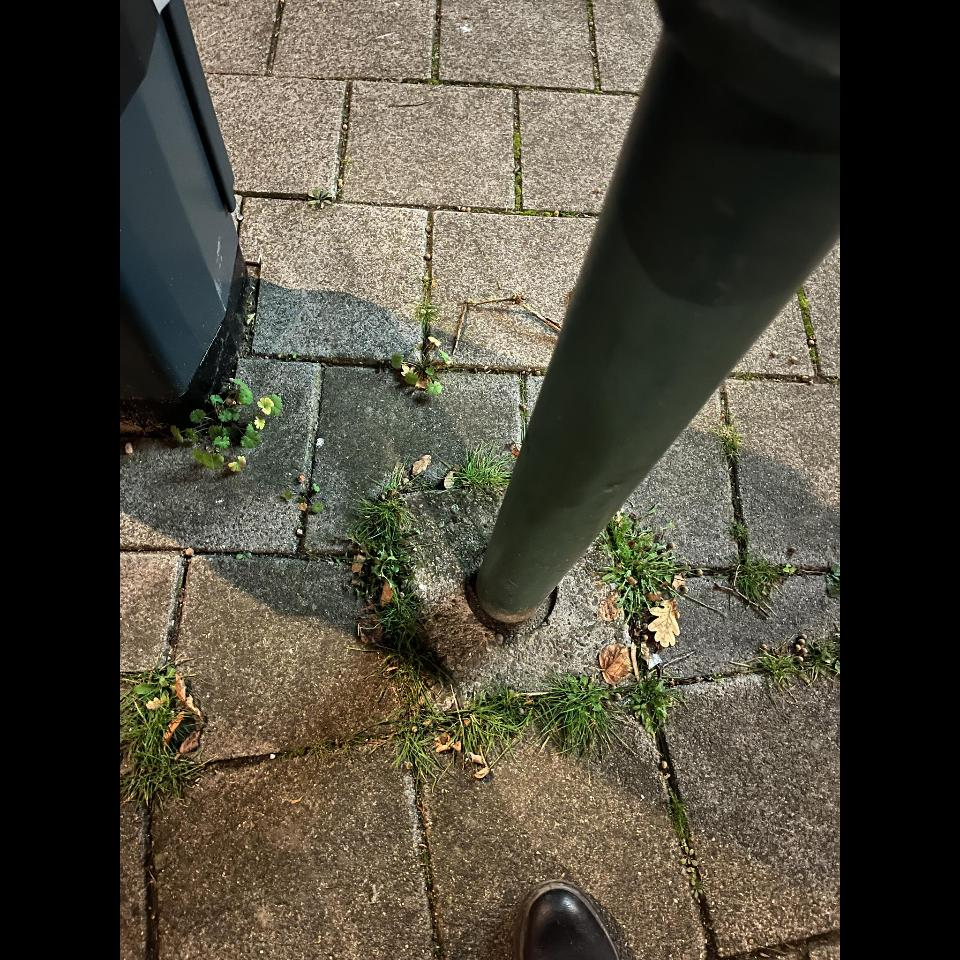weed: (379, 675, 621, 780), (349, 464, 441, 686), (120, 663, 204, 804), (171, 378, 283, 473), (599, 512, 676, 619), (349, 465, 414, 588), (751, 632, 840, 688), (729, 551, 787, 613), (391, 337, 451, 396), (628, 673, 681, 734), (446, 444, 514, 491)
